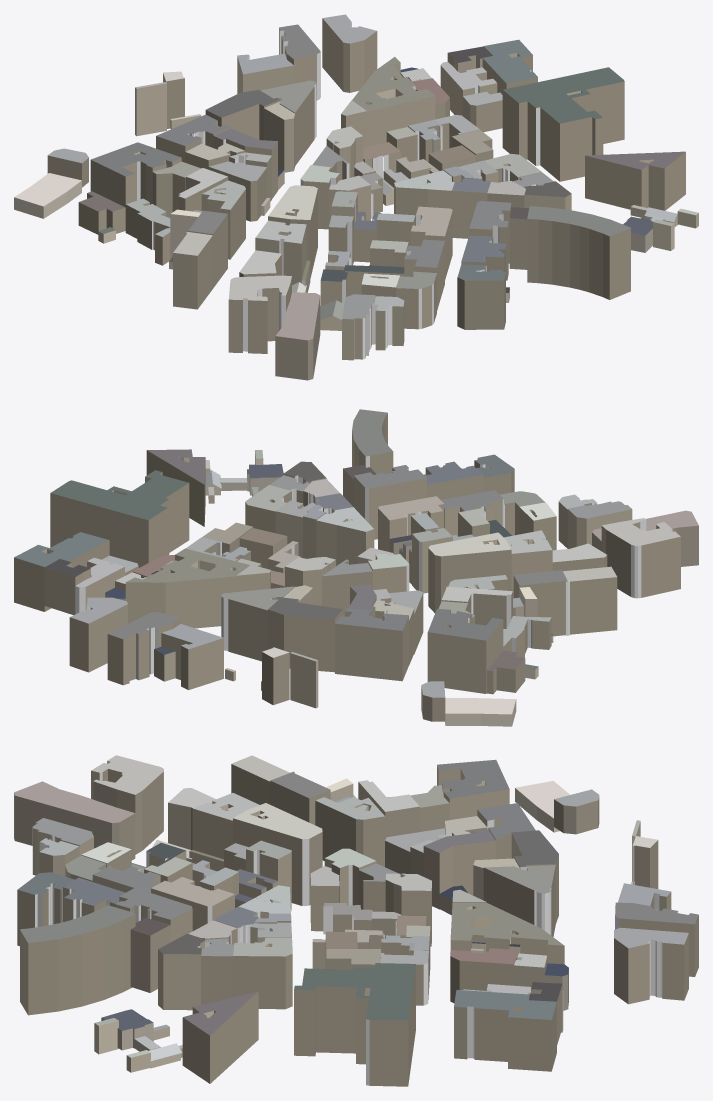
3 views of the same model, one above another, from view 1: azimuth 30°, elevation 25°; view 2: azimuth 150°, elevation 25°; view 3: azimuth 270°, elevation 25° (orthographic). The views are drawn at different scales.
Visible parts, largest first — view 1: tuile; view 2: tuile; view 3: tuile.
Part boxes in pixels (box(x1,y1,x2,y2)): tuile: box(14, 14, 698, 380); tuile: box(14, 409, 698, 726); tuile: box(14, 755, 698, 1086).
Size of the model in its own units: 284 by 36.55 by 280.
